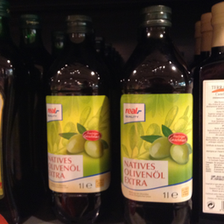oil: (118, 4, 194, 224), (40, 14, 115, 223)
